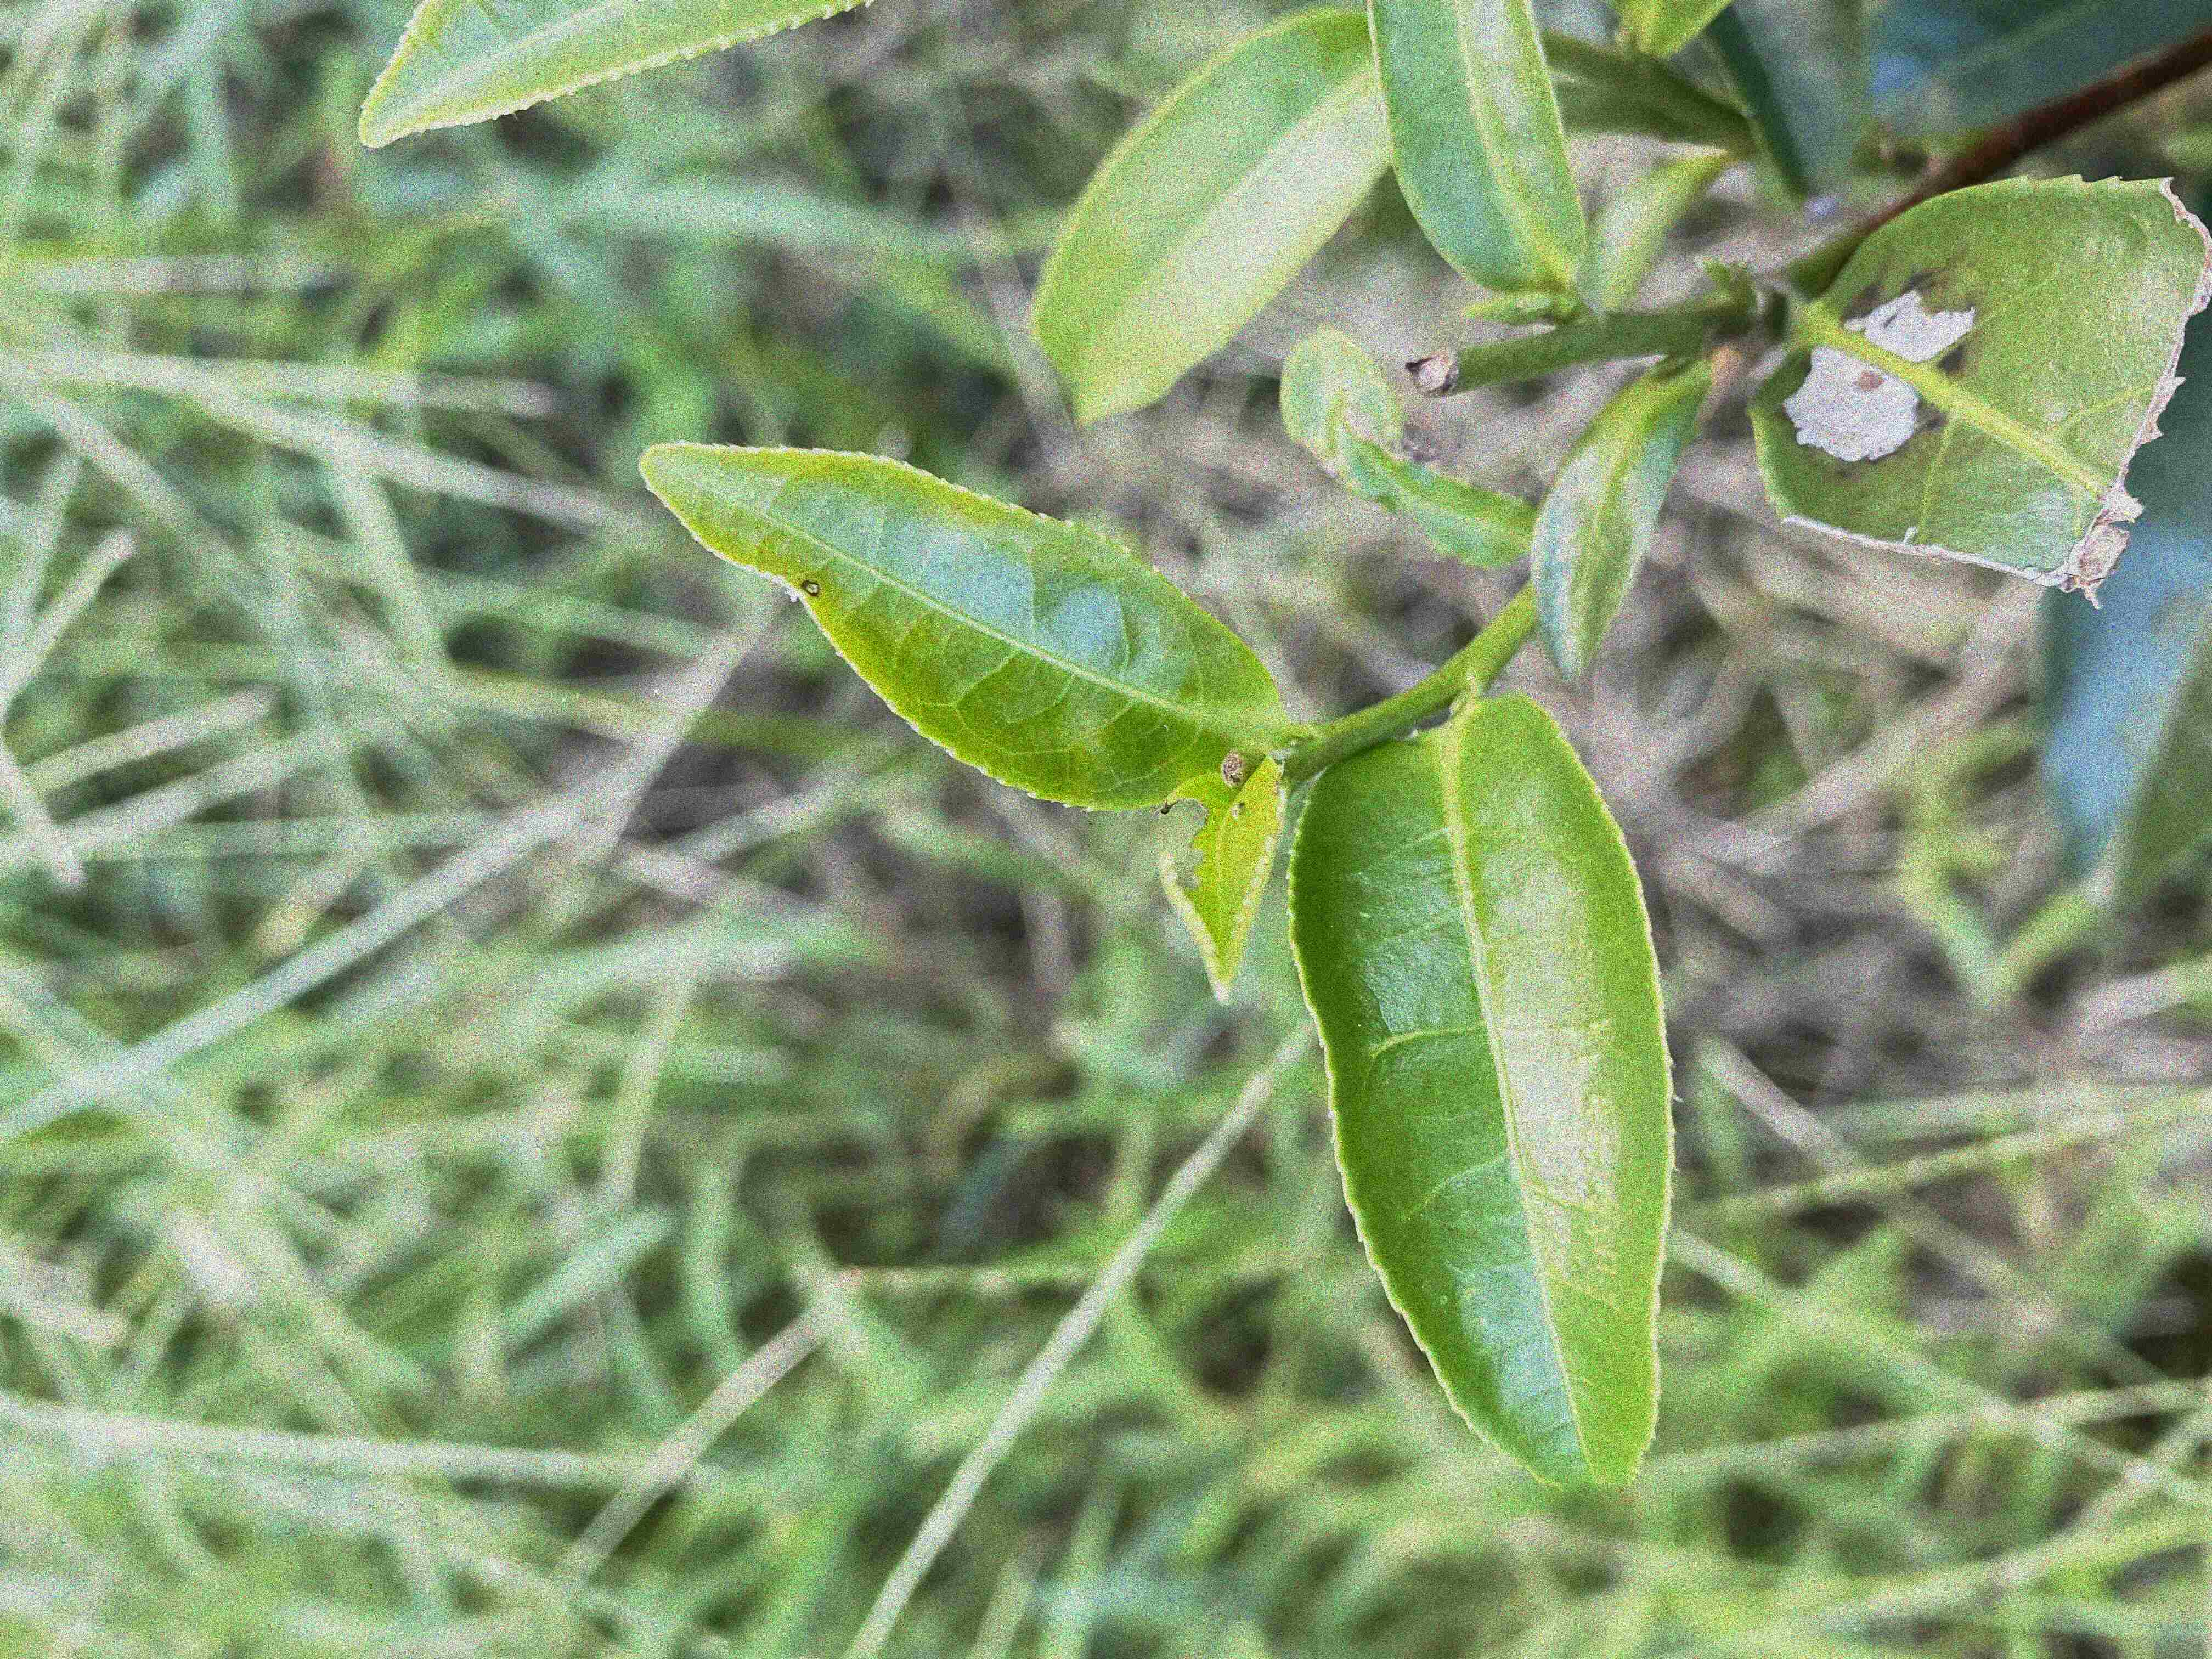chihuo_high: (1743, 166, 2212, 608), (1275, 328, 1533, 575), (1155, 753, 1285, 1006)
healthy: (1285, 687, 1679, 1490)
tanju_low: (637, 443, 1285, 812)
